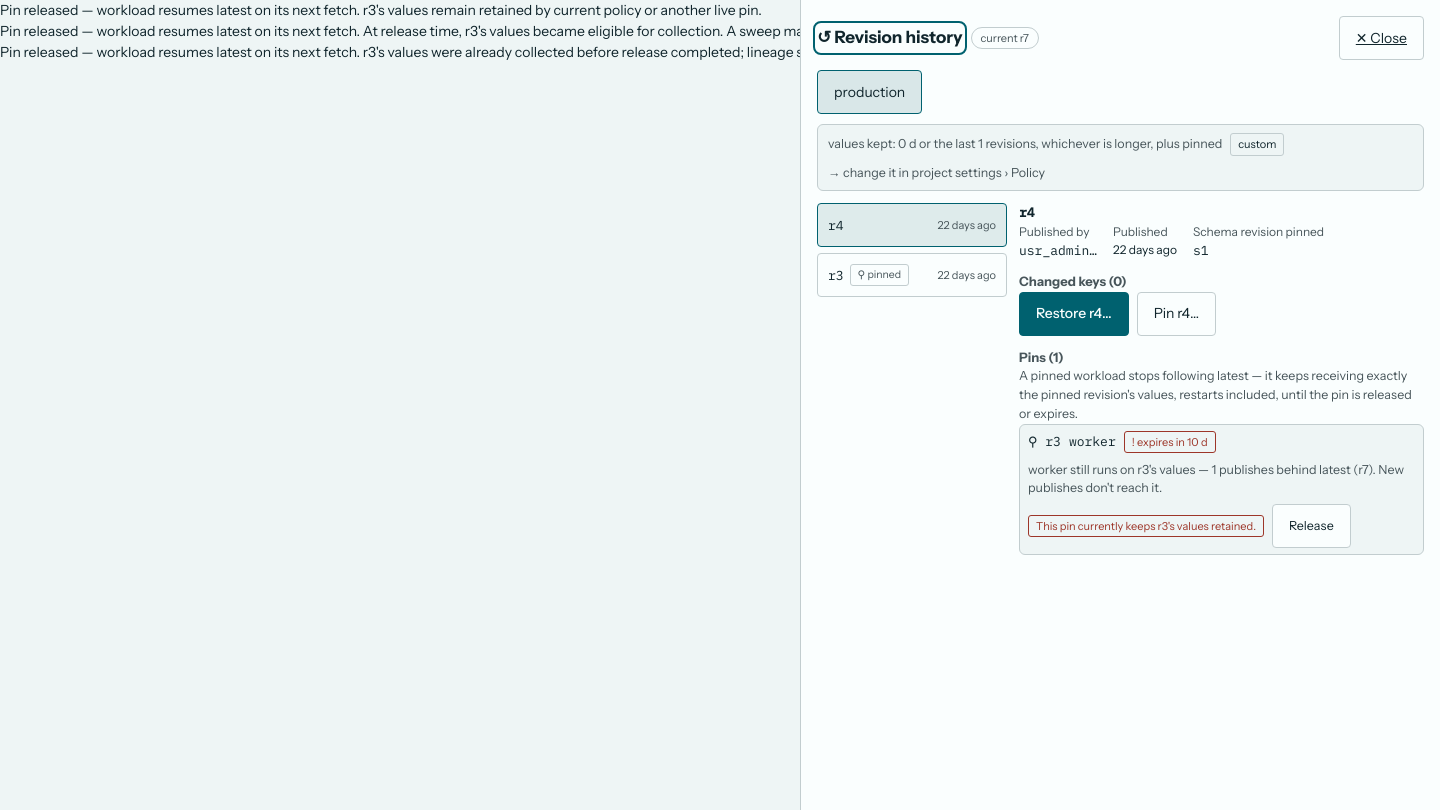
Test: HistoryDrawer pin release flow › warns and confirms when moving a server-previewed sole-keeper pin
This screenshot has width=1440, height=810.
Click the button "Pin r4…": coordinates (1176, 314) [1137,292,1216,336]
(page scrolled)
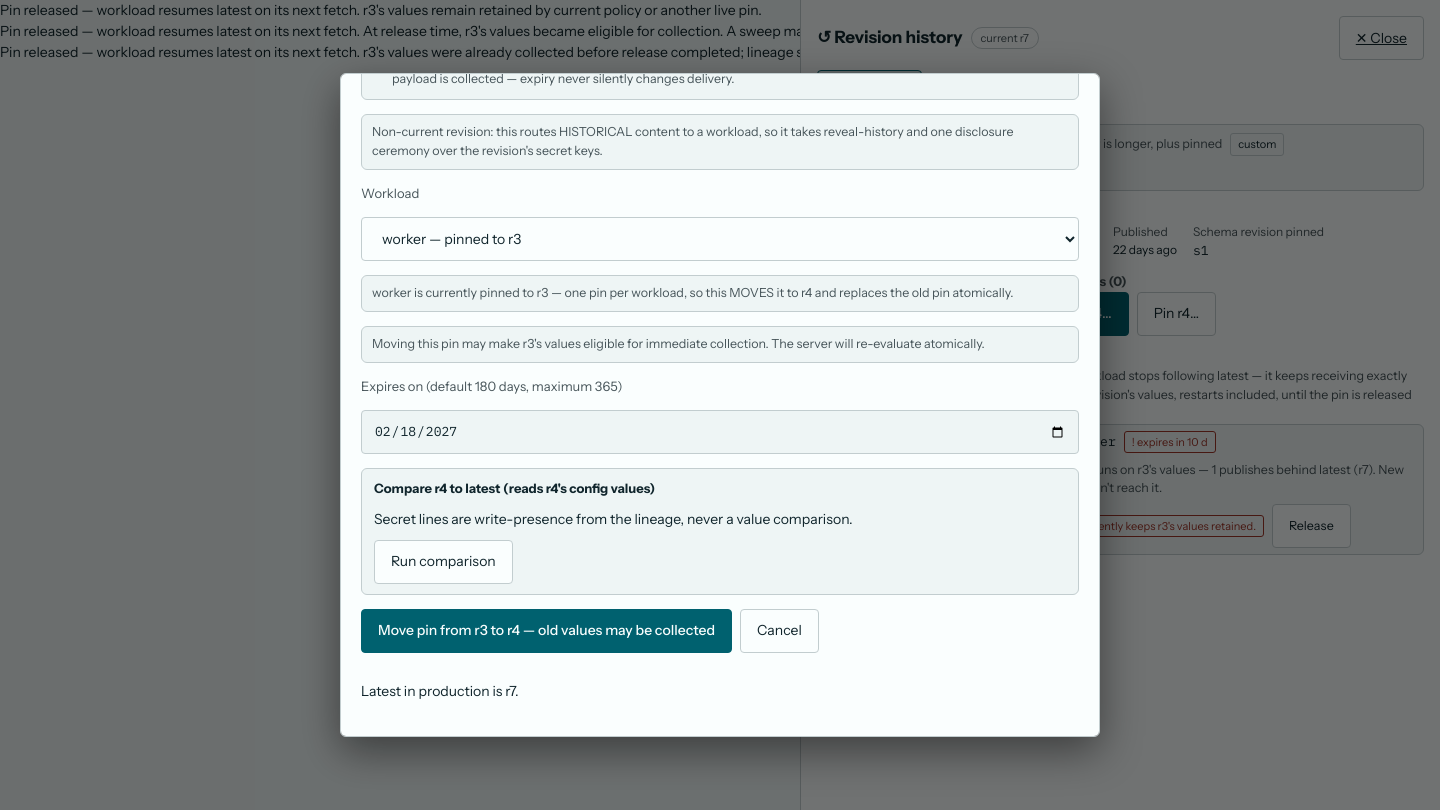
Result: the message with id "history-pin-move-collection-warning" shows "make r3's values eligible for immediate collection" at [361,326,1079,363]
Result: the button "Move pin from r3 to r4 — old values may be collected" is shown at [361,609,732,653]
